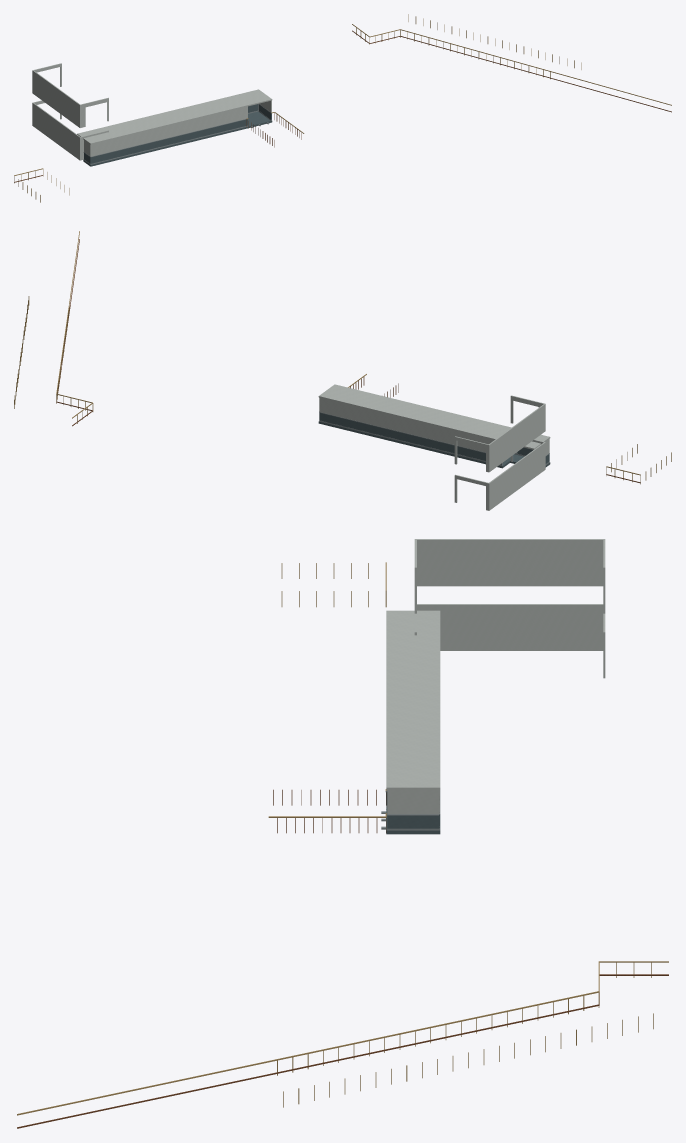
The model's file is QUIET_D14_STAFF_RECEIVING_r002.glb.
The picture shows the model from 3 angles, top to bottom: view 1: azimuth 30°, elevation 25°; view 2: azimuth 150°, elevation 25°; view 3: azimuth 270°, elevation 25°; orthographic projection. The views are drawn at different scales.
Parts seen in each view (by area): view 1: PATCH_lobby_wall_staff_white_paint_y11.001, Q14_Canopy, Q14_Edge1_Enamel, PATCH_QG_Batch_38, Q14_Edge1_Dado, PATCH_QG_Batch_43, Q14_MissingFloor; view 2: PATCH_lobby_wall_staff_white_paint_y11.001, Q14_Canopy, Q14_Edge0_Enamel, Q14_Edge0_Dado, PATCH_QG_Batch_38, Q14_MissingFloor, PATCH_QG_Batch_43; view 3: PATCH_lobby_wall_staff_white_paint_y11.001, Q14_Canopy, PATCH_QG_Batch_38, PATCH_QG_Batch_43, Q14_Edge2_Enamel.
Boxes of the visible parts, x1,y1,x2,y2 form: PATCH_lobby_wall_staff_white_paint_y11.001: [32, 63, 108, 160]; Q14_Canopy: [77, 89, 272, 144]; Q14_Edge1_Enamel: [91, 106, 247, 156]; PATCH_QG_Batch_38: [14, 14, 671, 202]; Q14_Edge1_Dado: [91, 119, 247, 163]; PATCH_QG_Batch_43: [14, 30, 671, 182]; Q14_MissingFloor: [83, 111, 272, 166]; PATCH_lobby_wall_staff_white_paint_y11.001: [454, 395, 545, 510]; Q14_Canopy: [318, 384, 550, 449]; Q14_Edge0_Enamel: [319, 397, 493, 452]; Q14_Edge0_Dado: [319, 412, 501, 464]; PATCH_QG_Batch_38: [14, 231, 671, 484]; Q14_MissingFloor: [318, 421, 550, 468]; PATCH_QG_Batch_43: [56, 239, 640, 483]; PATCH_lobby_wall_staff_white_paint_y11.001: [414, 539, 605, 678]; Q14_Canopy: [386, 610, 440, 789]; PATCH_QG_Batch_38: [17, 562, 668, 1115]; PATCH_QG_Batch_43: [17, 789, 668, 1128]; Q14_Edge2_Enamel: [387, 790, 438, 814].
Size of the model in its own units: 82.21 by 7.94 by 41.03.
9 materials, 8 textured.
